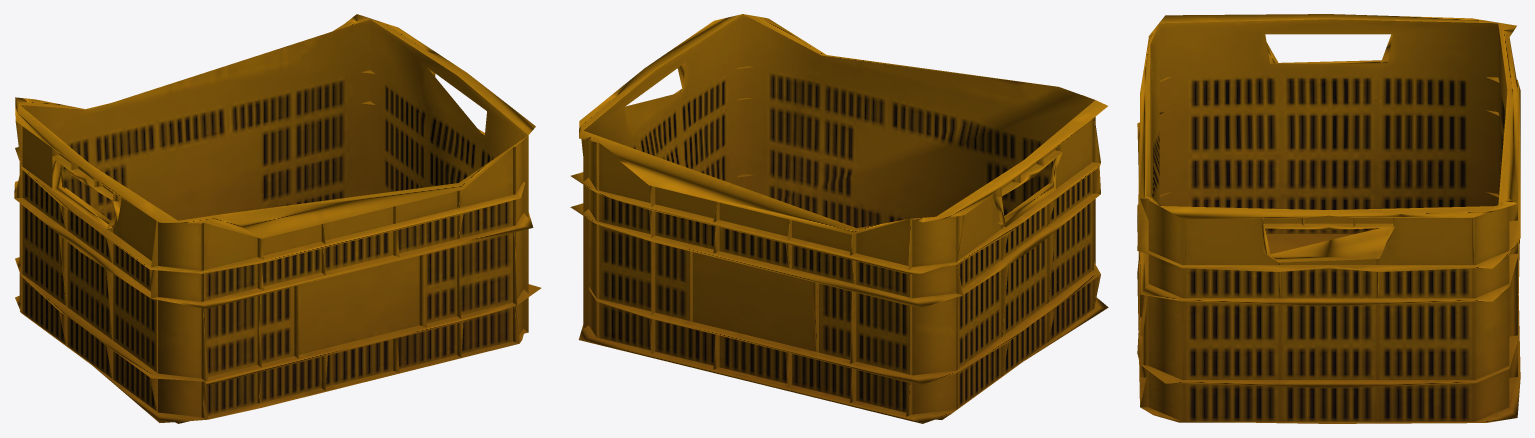
Rendered from plastic_crate_02.glb.
The picture shows the model from 3 angles, left to right: view 1: azimuth 30°, elevation 25°; view 2: azimuth 150°, elevation 25°; view 3: azimuth 270°, elevation 25°; orthographic projection. The views are drawn at different scales.
Parts seen in each view (by area): view 1: plastic_crate_02; view 2: plastic_crate_02; view 3: plastic_crate_02.
Part boxes in pixels (x1,y1,x2,y2): plastic_crate_02: (14,14,541,423); plastic_crate_02: (570,14,1108,423); plastic_crate_02: (1137,14,1520,423).
Size of the model in its own units: 0.5055 by 0.2541 by 0.4055.
Materials: 1 (1 with a texture image).
